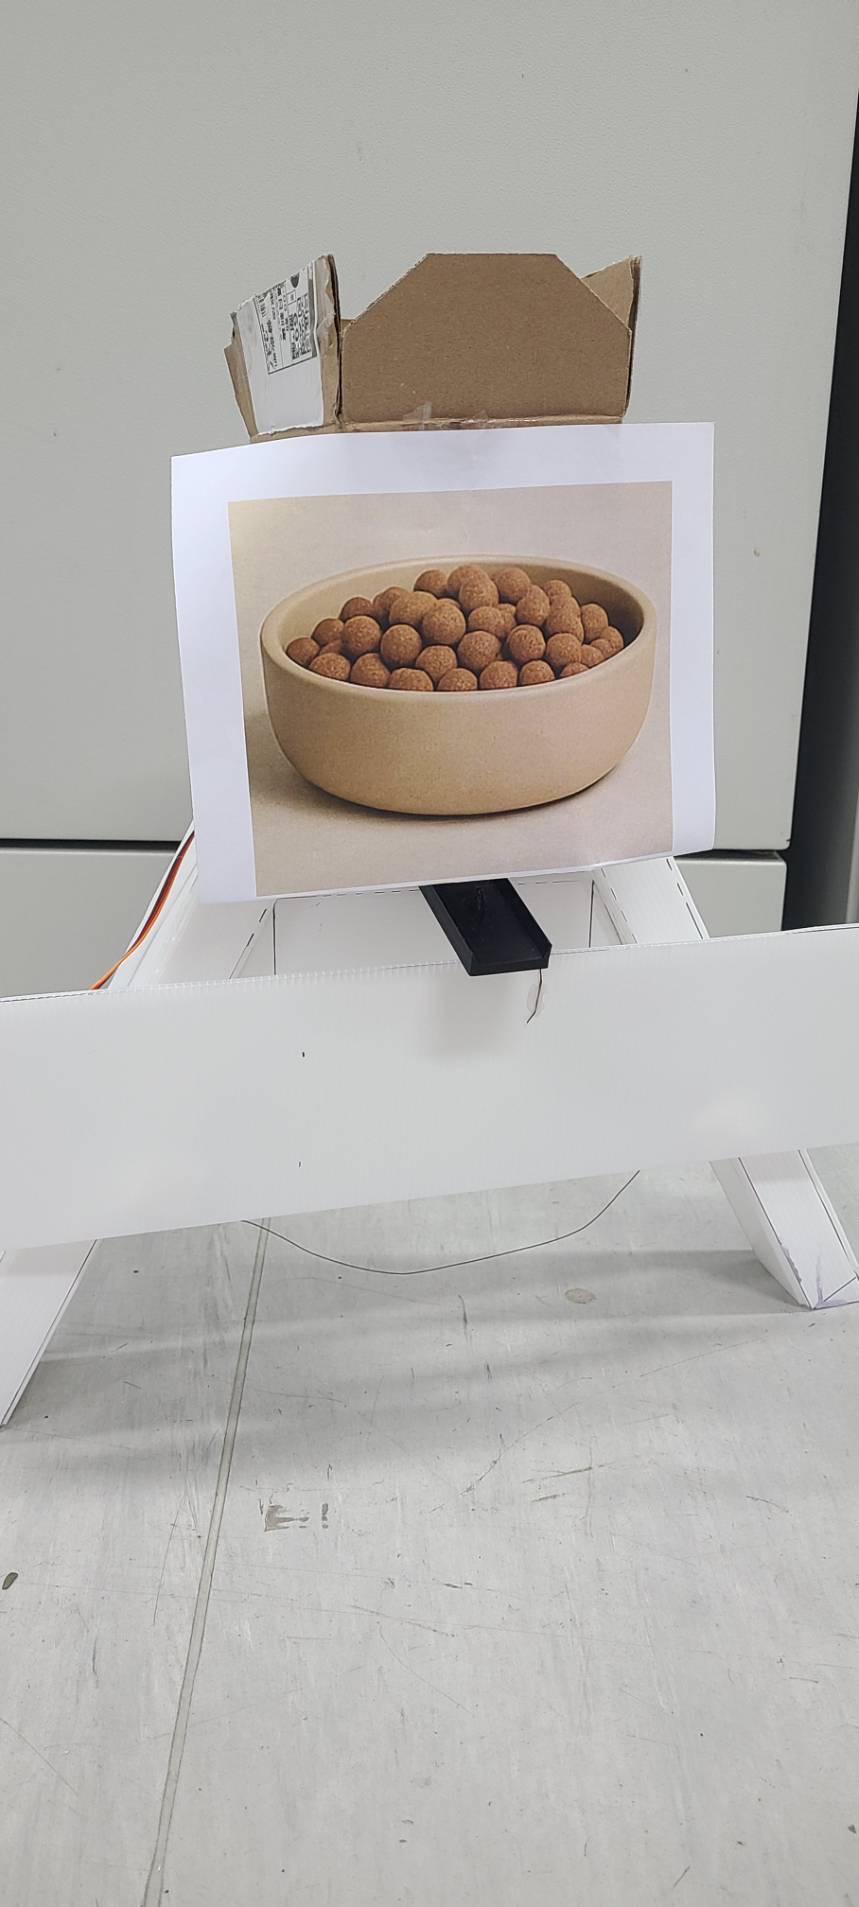machine: (262, 561, 649, 805)
